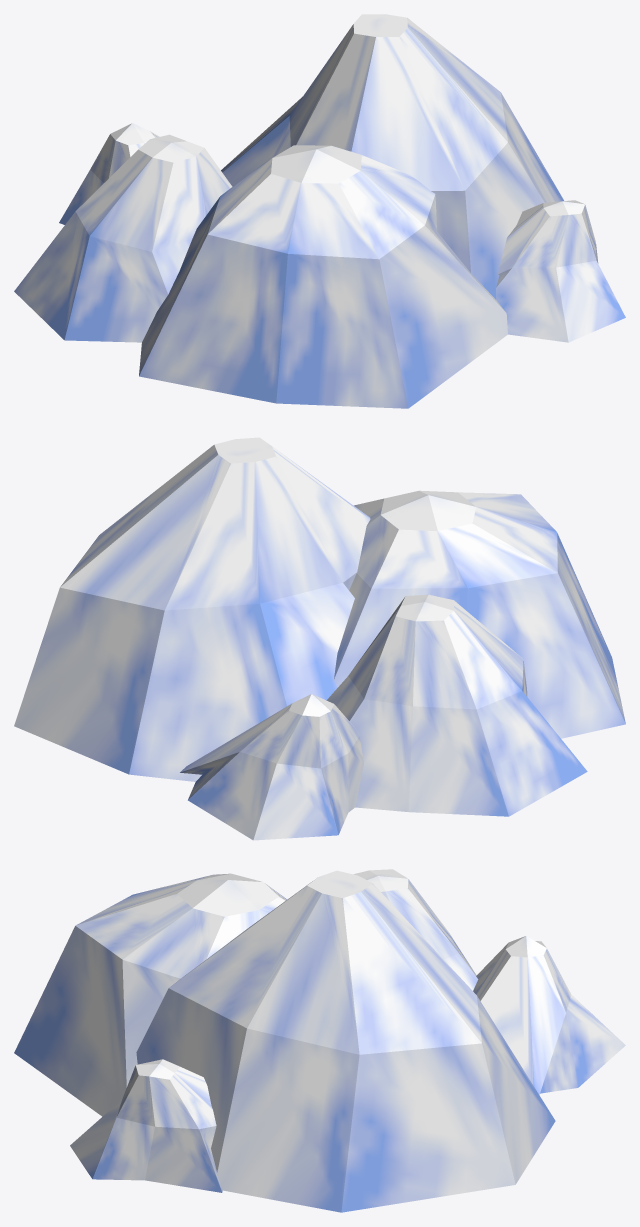
The model's file is Poly_World_Map_Mountain_Sand_Snow_03.obj.
The picture shows the model from 3 angles, top to bottom: view 1: azimuth 30°, elevation 25°; view 2: azimuth 150°, elevation 25°; view 3: azimuth 270°, elevation 25°; orthographic projection. The views are drawn at different scales.
Parts seen in each view (by area): view 1: Cube.001_Cube.002, Cube.002_Cube.003, Cube_Cube.001, Cube.003_Cube.004, Cube.004_Cube.005; view 2: Cube.002_Cube.003, Cube_Cube.001, Cube.001_Cube.002, Cube.004_Cube.005; view 3: Cube.002_Cube.003, Cube.001_Cube.002, Cube.003_Cube.004, Cube.004_Cube.005, Cube_Cube.001.
Boxes of the visible parts, box(x1,y1,x2,y2) form: Cube.001_Cube.002: box(139, 145, 507, 408); Cube.002_Cube.003: box(221, 14, 563, 299); Cube_Cube.001: box(14, 134, 232, 342); Cube.003_Cube.004: box(496, 200, 625, 342); Cube.004_Cube.005: box(59, 123, 159, 224); Cube.002_Cube.003: box(14, 437, 370, 781); Cube_Cube.001: box(326, 594, 587, 816); Cube.001_Cube.002: box(334, 490, 625, 738); Cube.004_Cube.005: box(180, 694, 363, 840); Cube.002_Cube.003: box(136, 870, 555, 1212); Cube.001_Cube.002: box(14, 873, 286, 1116); Cube.003_Cube.004: box(70, 1059, 222, 1192); Cube.004_Cube.005: box(473, 936, 625, 1094); Cube_Cube.001: box(353, 869, 478, 990).
Bounding box in the file's own units: 1.61 × 0.7011 × 1.65.
1 material, 1 textured.
